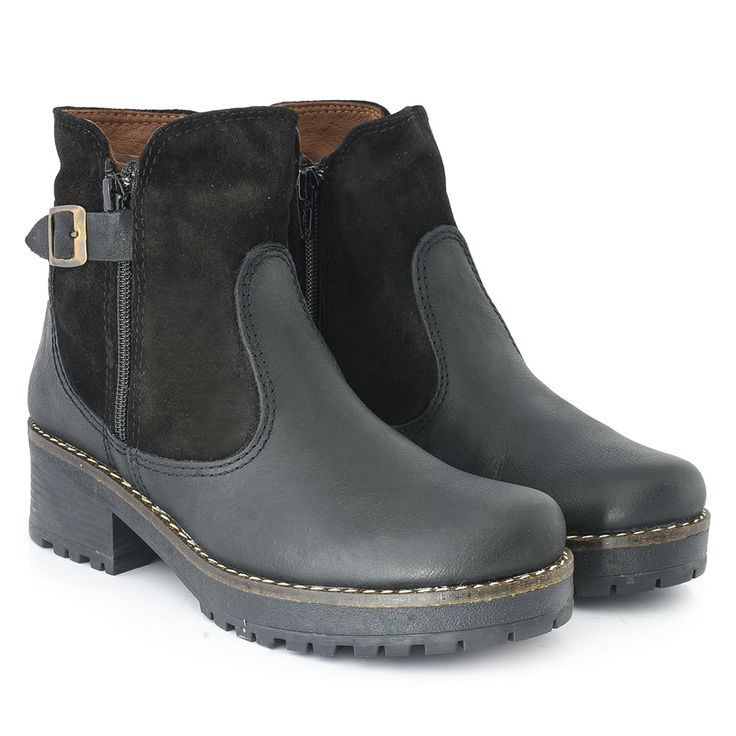gamuza: (52, 101, 456, 461)
